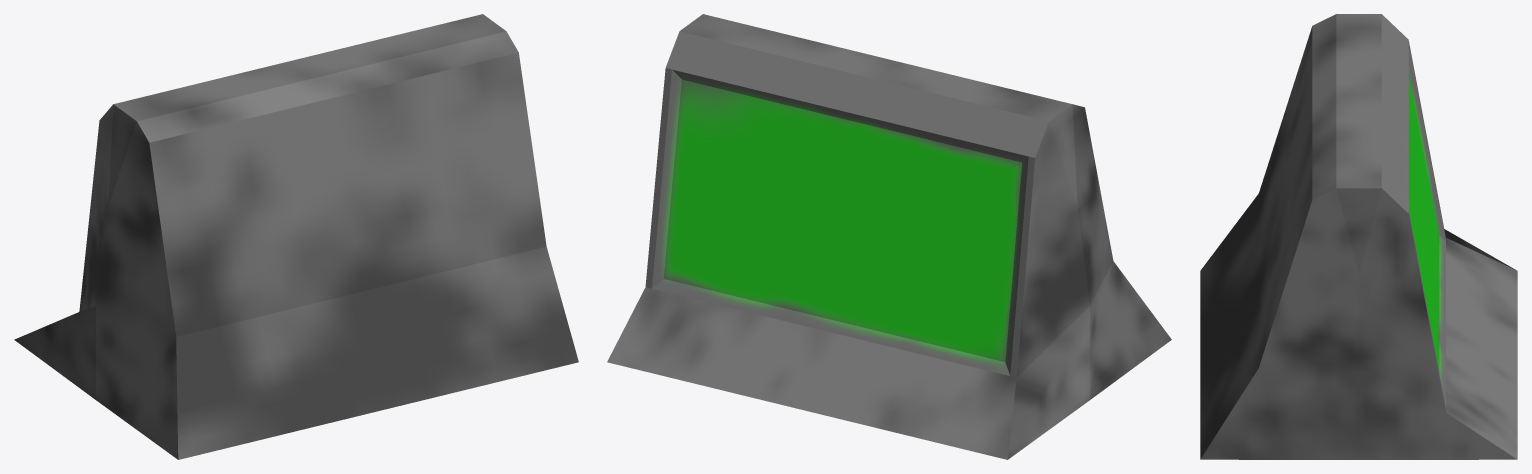
The model's file is IFB399-GameBarrierEnd.obj.
3 renders of one model, left to right at view 1: azimuth 30°, elevation 25°; view 2: azimuth 150°, elevation 25°; view 3: azimuth 270°, elevation 25°, orthographic. The views are drawn at different scales.
Visible parts, largest first — view 1: BarrierEndLeft_Cube.001; view 2: BarrierEndLeft_Cube.001; view 3: BarrierEndLeft_Cube.001.
Boxes of the visible parts, x1,y1,x2,y2 form: BarrierEndLeft_Cube.001: (14, 14, 578, 459); BarrierEndLeft_Cube.001: (607, 14, 1171, 459); BarrierEndLeft_Cube.001: (1200, 14, 1517, 459).
Bounding box in the file's own units: 4.47 × 2.98 × 3.17.
